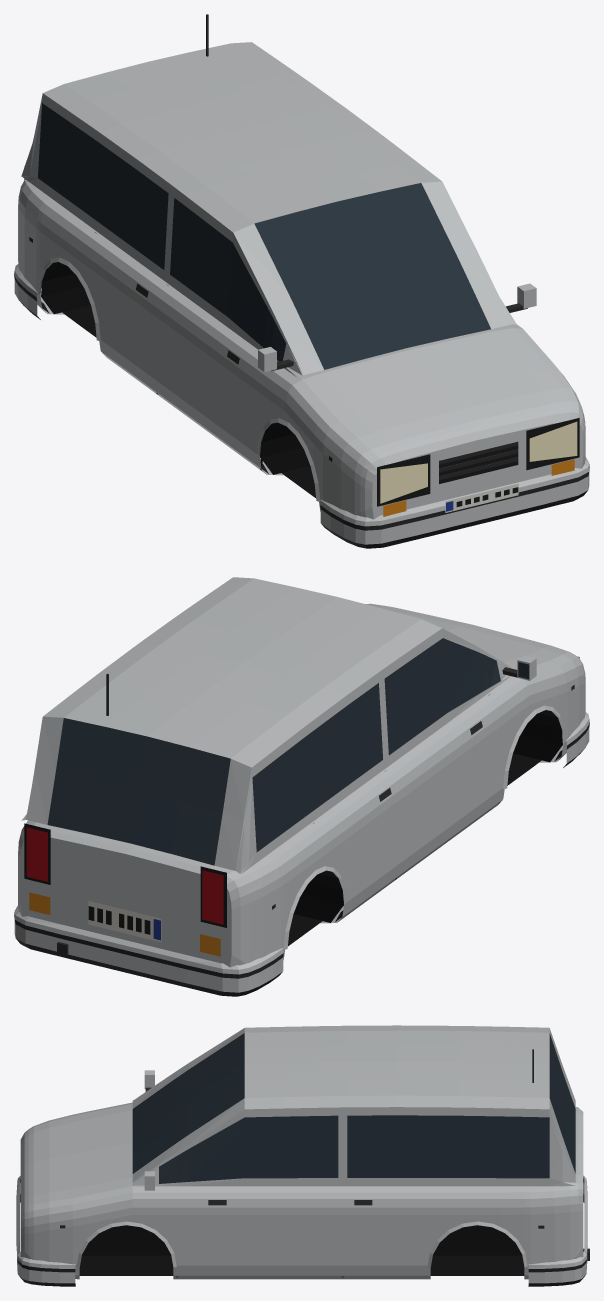
File: opel-zafira.glb
3 renders of one model, top to bottom at view 1: azimuth 30°, elevation 25°; view 2: azimuth 150°, elevation 25°; view 3: azimuth 270°, elevation 25°, orthographic. The views are drawn at different scales.
Parts seen in each view (by area): view 1: LOD0, door_FR, door_RR; view 2: LOD0, door_FR, door_RR; view 3: LOD0, door_FL, door_RL.
Boxes of the visible parts, x1,y1,x2,y2 form: LOD0: (14,14,589,548); door_FR: (155,188,275,466); door_RR: (82,133,168,390); LOD0: (14,577,589,996); door_FR: (384,628,502,875); door_RR: (309,673,398,916); LOD0: (16,1025,589,1286); door_FL: (177,1107,341,1275); door_RL: (344,1107,457,1275).
Size of what is drawn, in the model's own units: 1.93 by 1.78 by 4.42.
